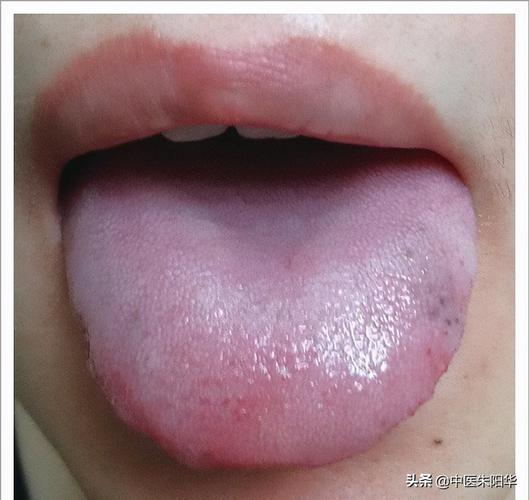baitaishe: (63, 161, 477, 471)
hongdianshe: (418, 289, 460, 356)
zishe: (63, 161, 477, 471)
